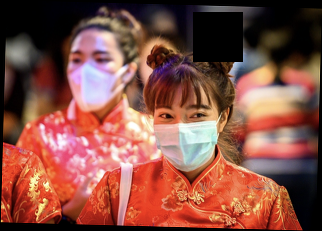with_mask: (153, 94, 221, 173), (64, 43, 125, 113)
